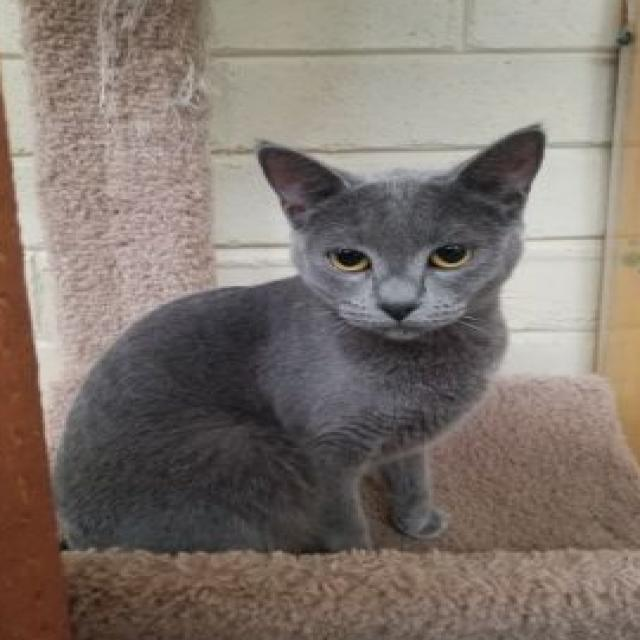Russian Blue: (46, 123, 550, 551)
